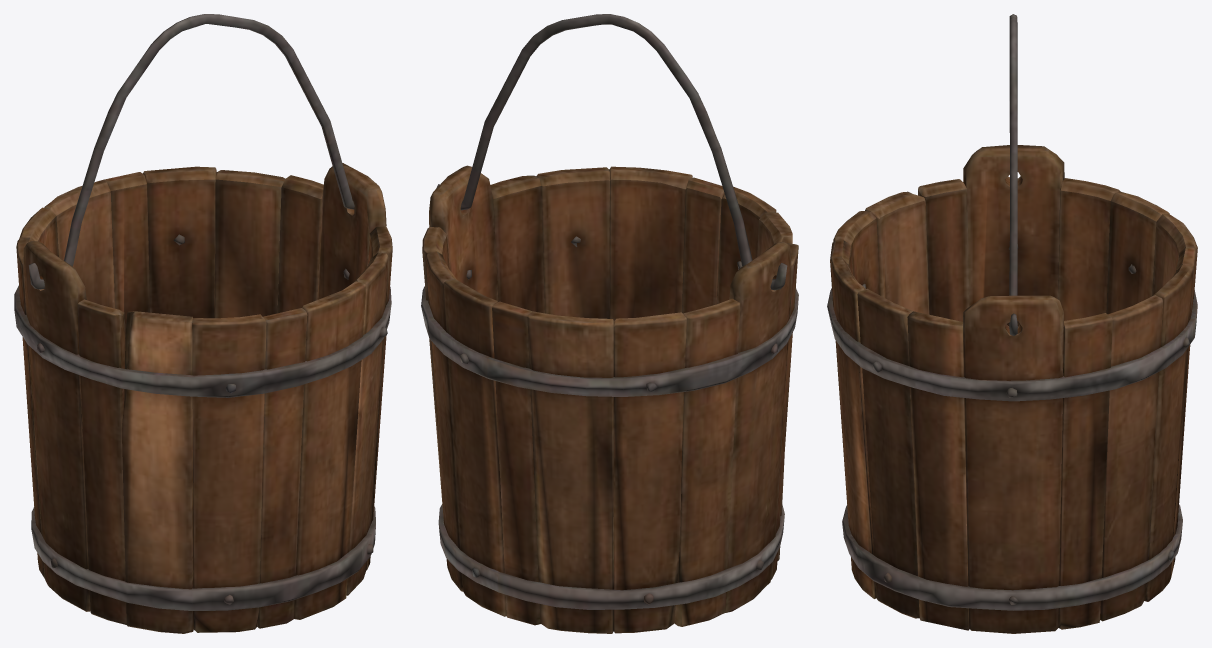
File: wooden_bucket_01.glb
3 views of the same model, side by side, from view 1: azimuth 30°, elevation 25°; view 2: azimuth 150°, elevation 25°; view 3: azimuth 270°, elevation 25° (orthographic).
Parts seen in each view (by area): view 1: wooden_bucket_01, wooden_bucket_01_handle; view 2: wooden_bucket_01, wooden_bucket_01_handle; view 3: wooden_bucket_01, wooden_bucket_01_handle.
Part boxes in pixels (x1=…): wooden_bucket_01: x1=14, y1=163, x2=392, y2=633; wooden_bucket_01_handle: x1=28, y1=14, x2=376, y2=289; wooden_bucket_01: x1=421, y1=165, x2=798, y2=633; wooden_bucket_01_handle: x1=436, y1=14, x2=787, y2=290; wooden_bucket_01: x1=827, y1=145, x2=1197, y2=633; wooden_bucket_01_handle: x1=1009, y1=14, x2=1017, y2=335.
Bounding box in the file's own units: 0.3663 × 0.5499 × 0.3419.
Materials: 1 (1 with a texture image).
